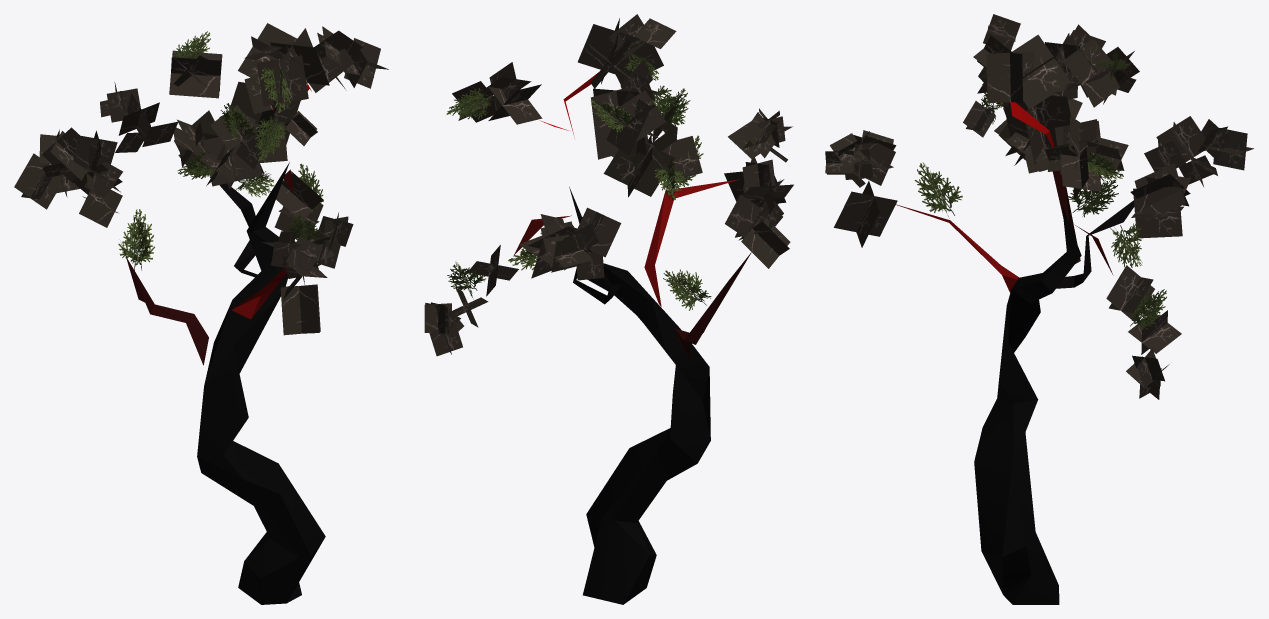
File: cpine2 lod3.FBX
3 renders of one model, left to right at view 1: azimuth 30°, elevation 25°; view 2: azimuth 150°, elevation 25°; view 3: azimuth 270°, elevation 25°, orthographic.
Visible parts, largest first — view 1: cpine_LOD2; view 2: cpine_LOD2; view 3: cpine_LOD2.
Boxes of the visible parts, bbox=[...] form: cpine_LOD2: bbox=[14, 23, 388, 604]; cpine_LOD2: bbox=[424, 14, 793, 604]; cpine_LOD2: bbox=[825, 14, 1253, 604].
Size of the model in its own units: 106482 by 159391 by 109305.
